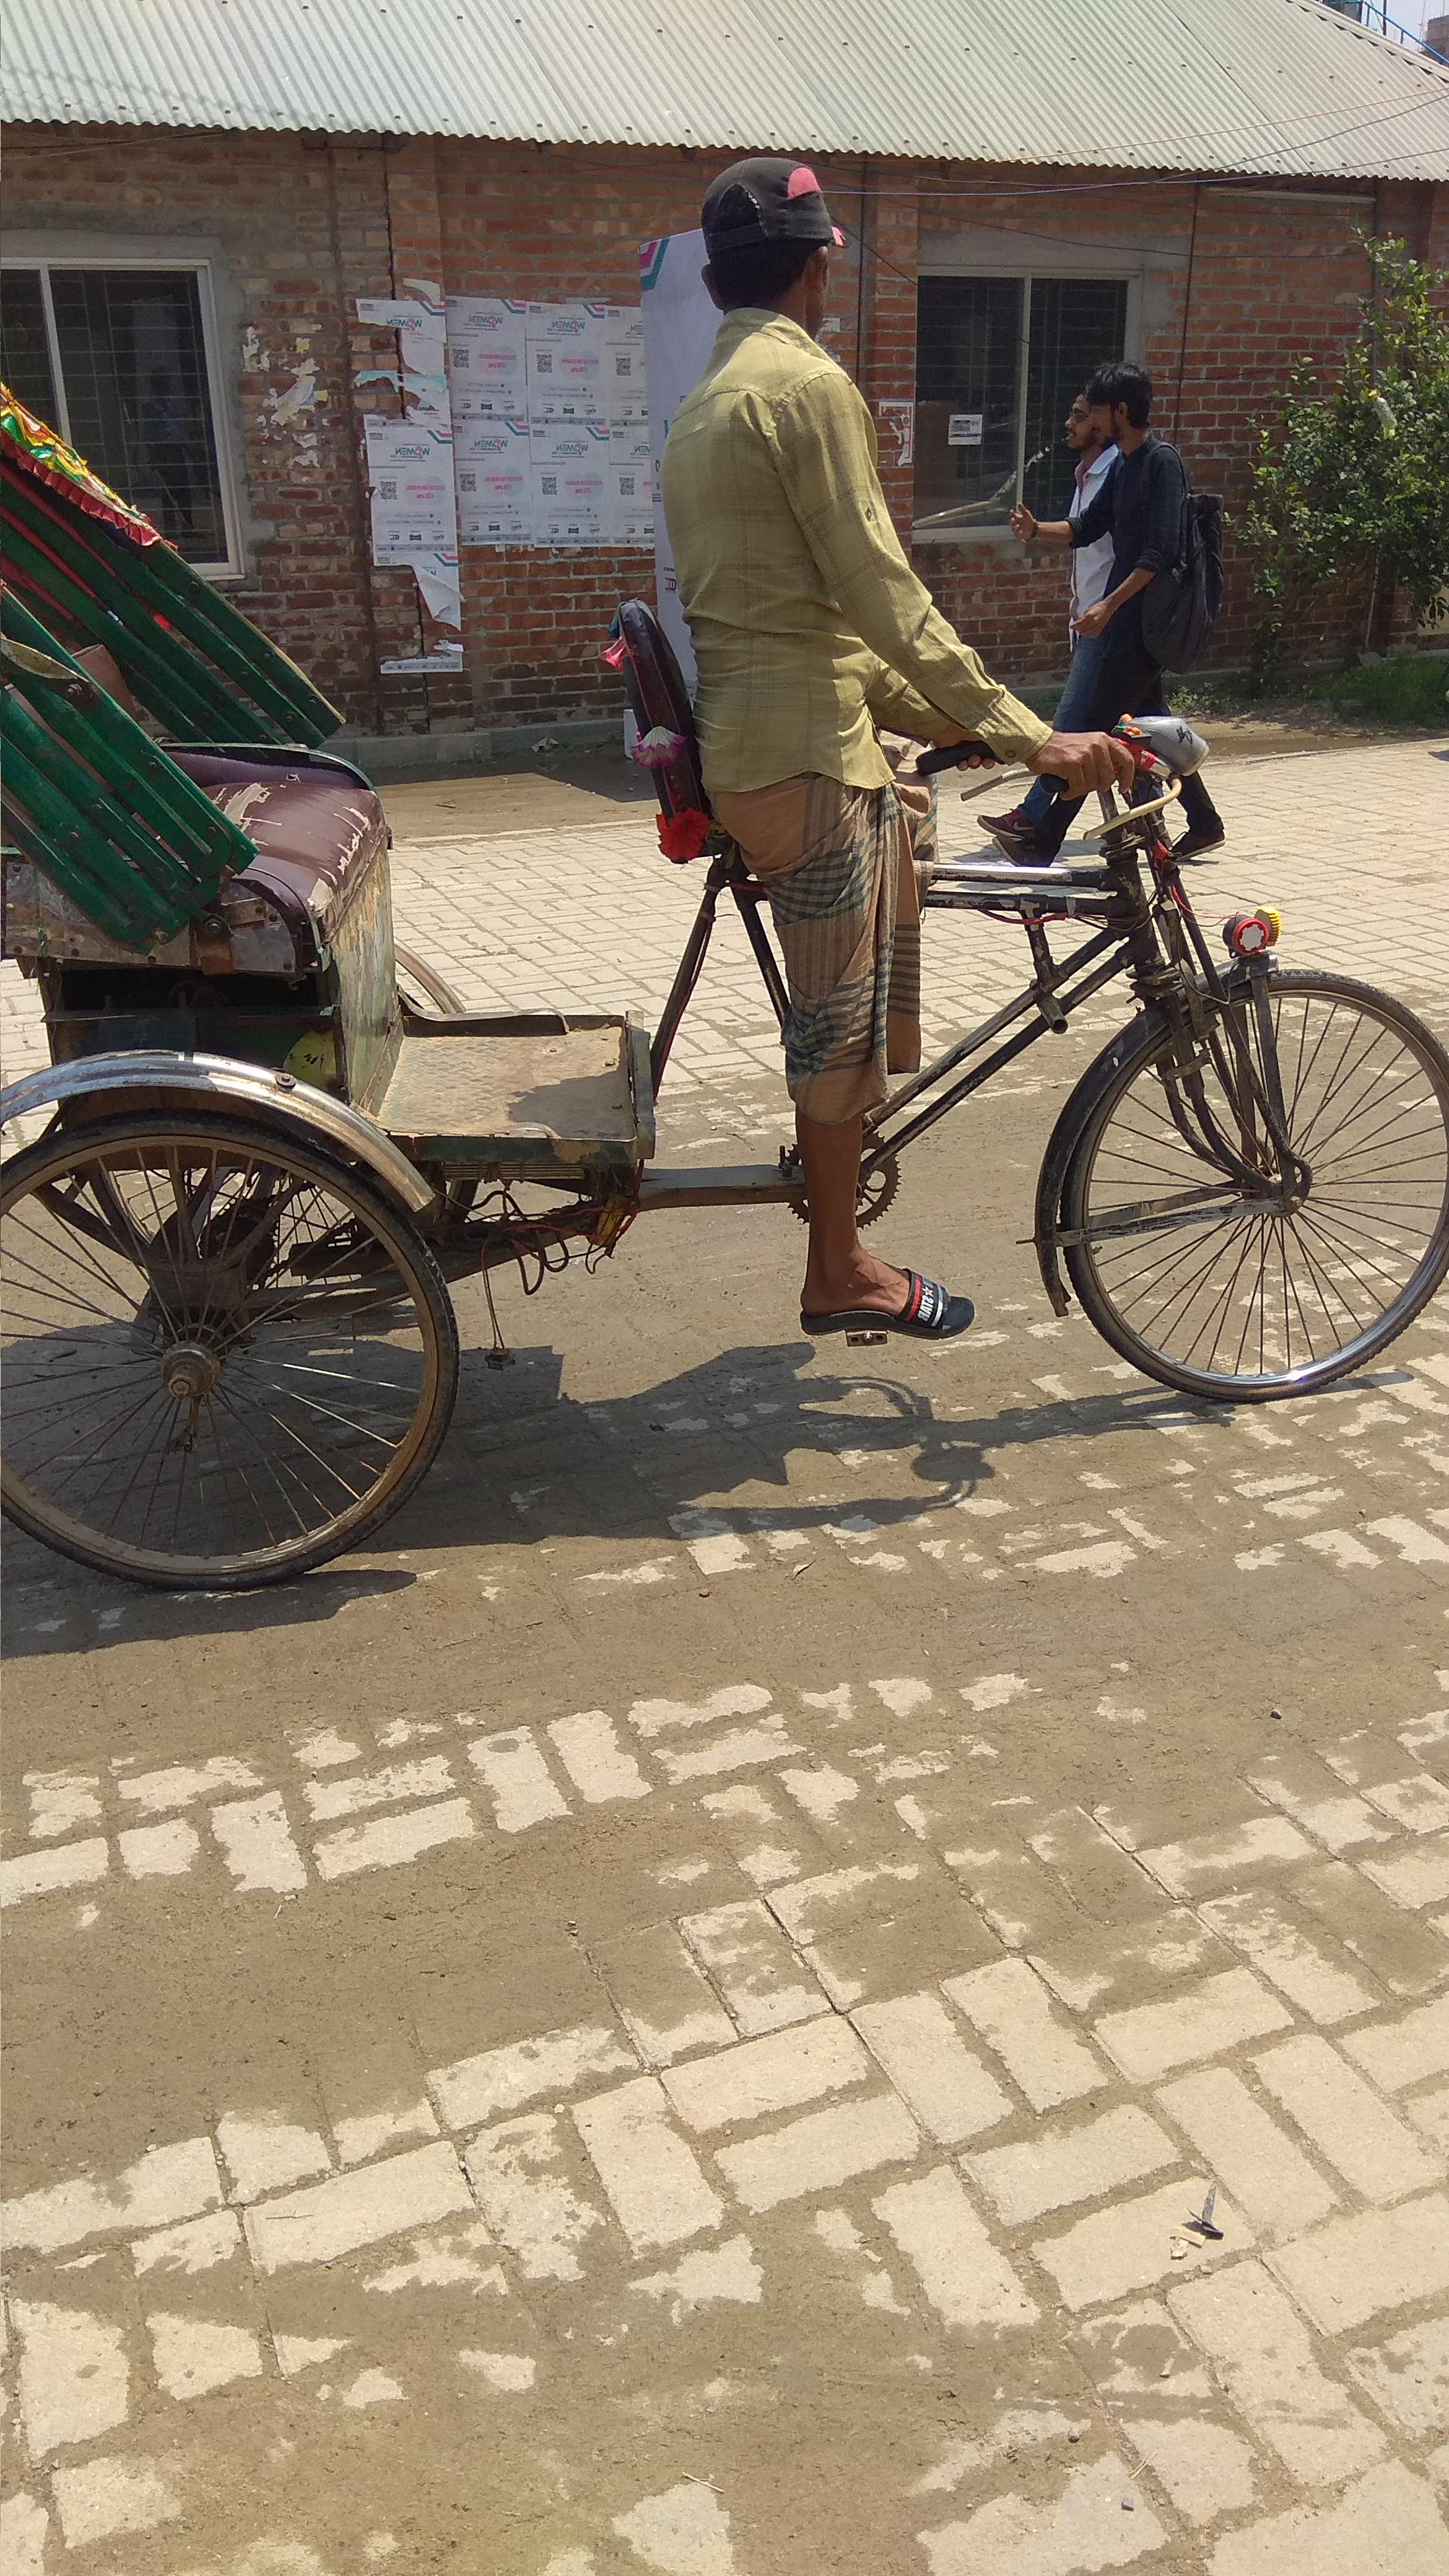Rickshaw: (0, 349, 1447, 1601)
